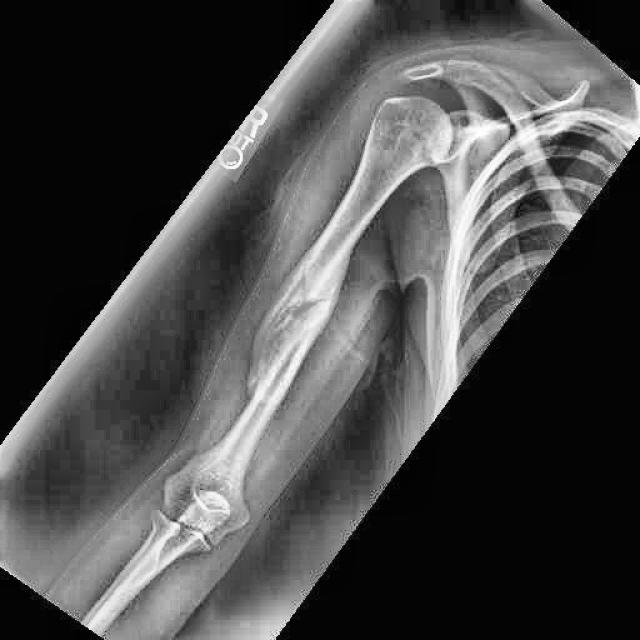humerus: (221, 219, 380, 459)
